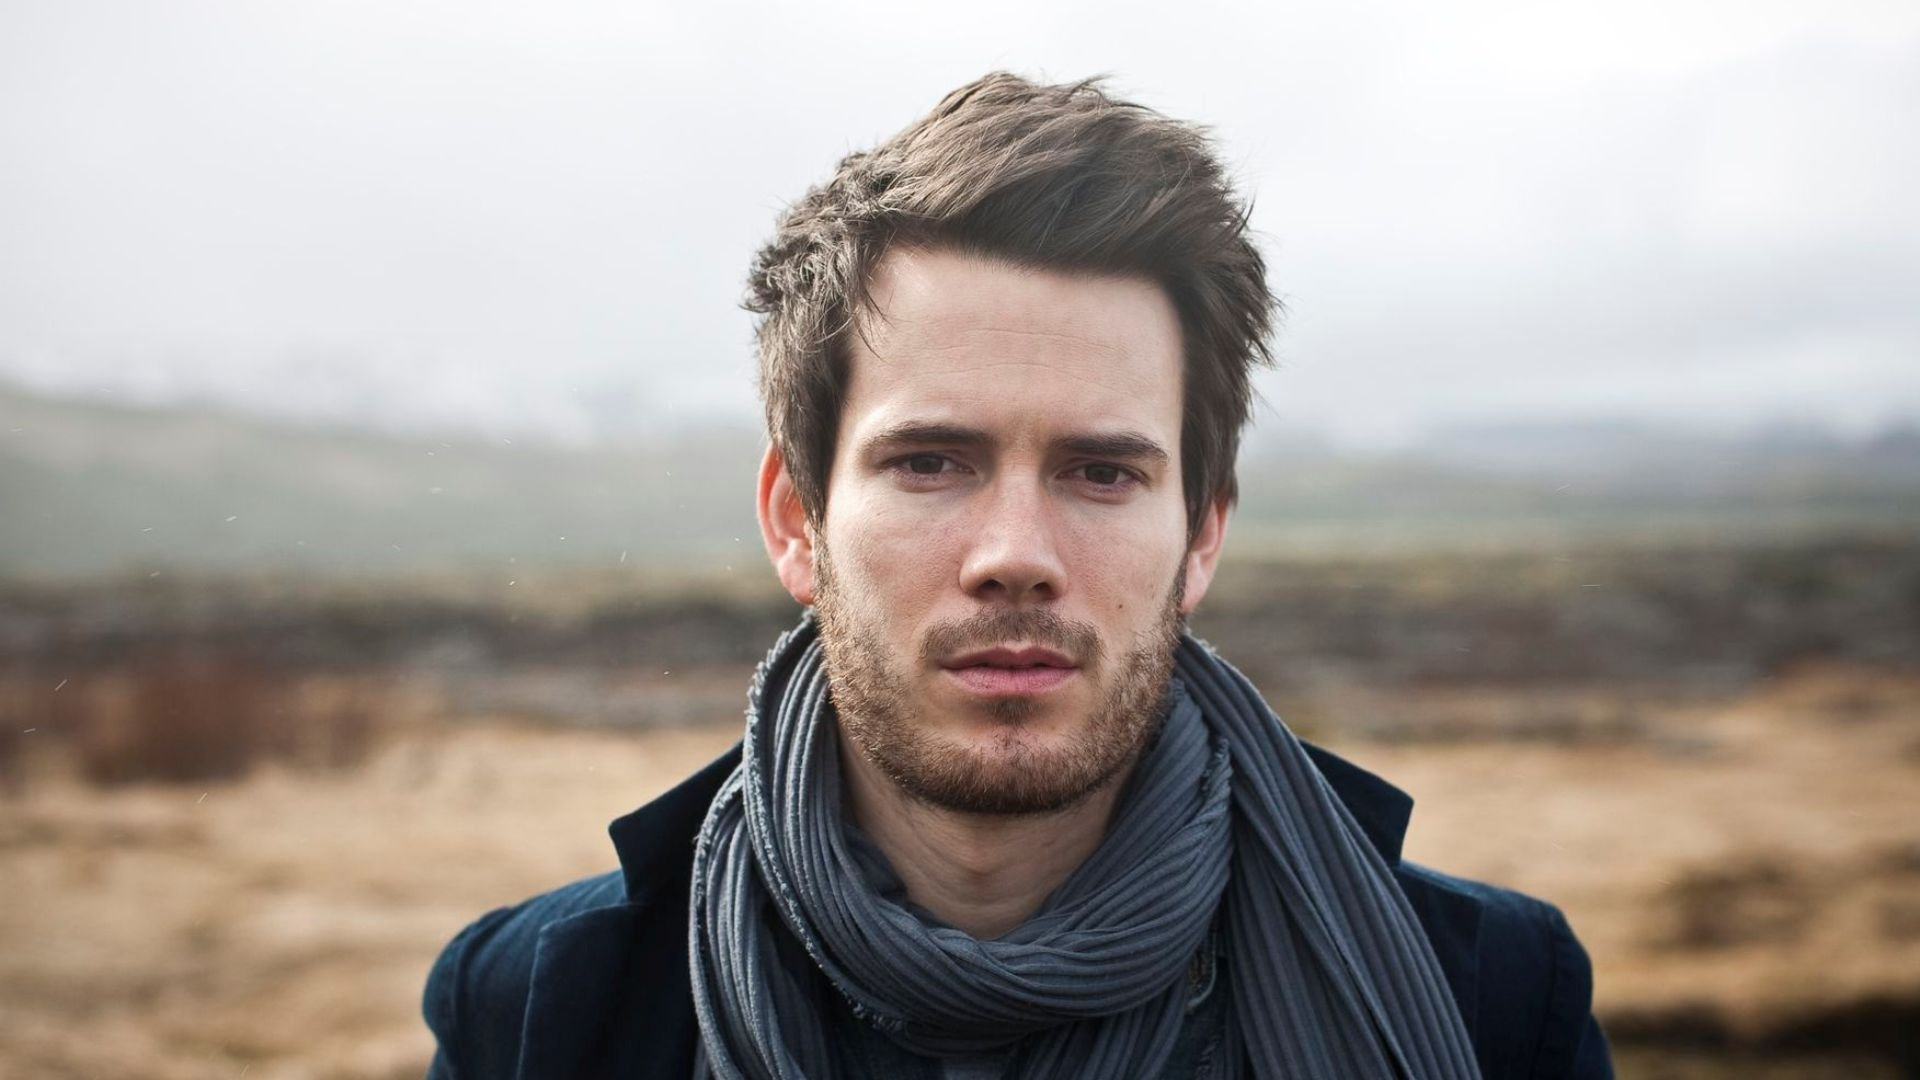noMask: (683, 36, 1323, 807)
